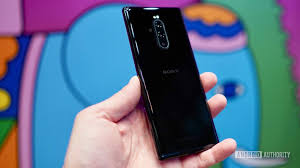sony: (120, 1, 223, 164)
